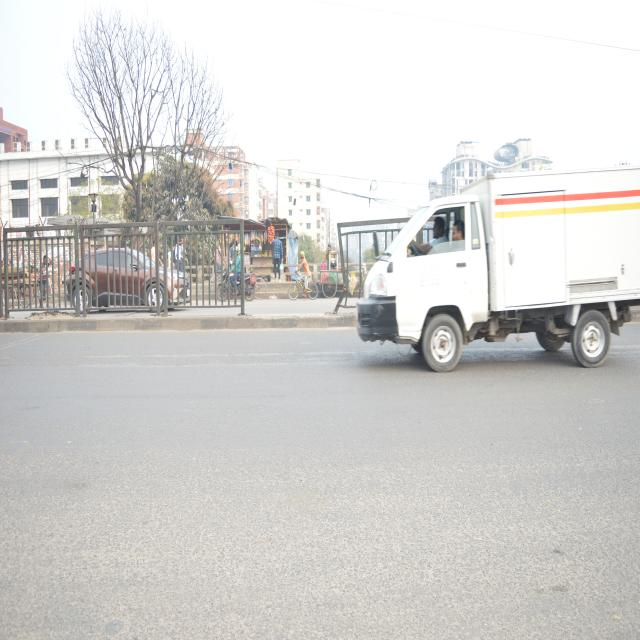pickup-van: (350, 148, 640, 422)
